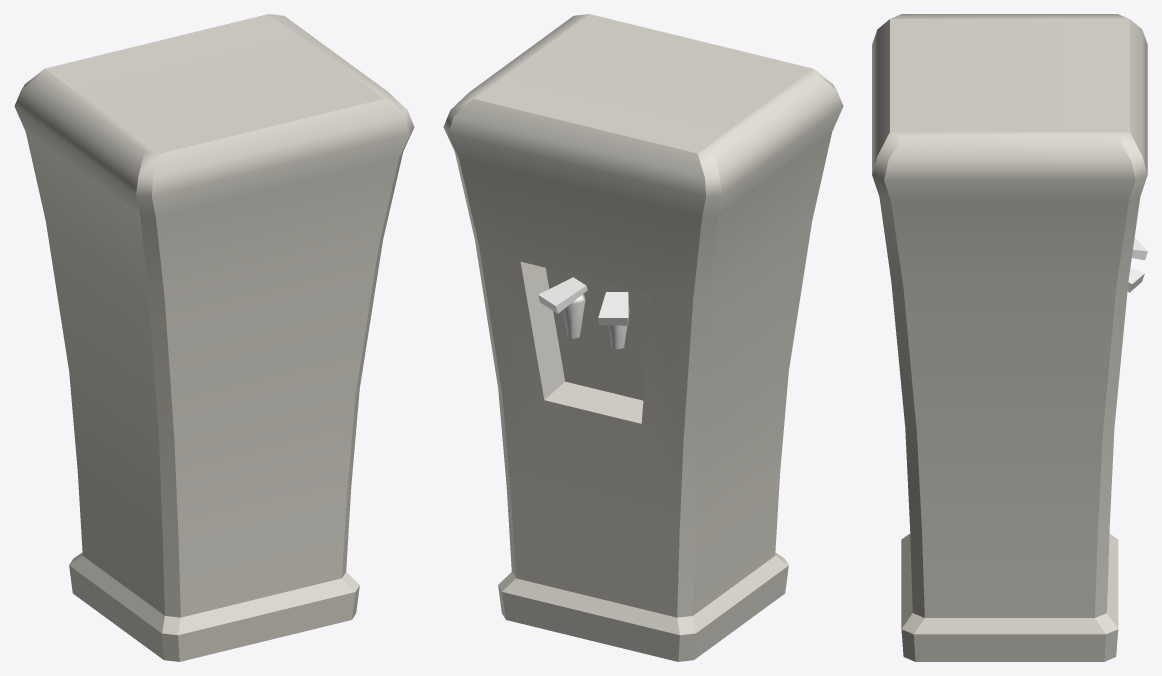
File: SM_Water_Cooler.fbx
3 renders of one model, left to right at view 1: azimuth 30°, elevation 25°; view 2: azimuth 150°, elevation 25°; view 3: azimuth 270°, elevation 25°, orthographic. The views are drawn at different scales.
Parts seen in each view (by area): view 1: polySurface5; view 2: polySurface5; view 3: polySurface5.
Part boxes in pixels (x1,y1,x2,y2): polySurface5: (14,14,414,661); polySurface5: (443,14,843,661); polySurface5: (872,14,1147,661).
Bounding box in the file's own units: 67.34 × 120 × 55.78.
1 material, 1 textured.
